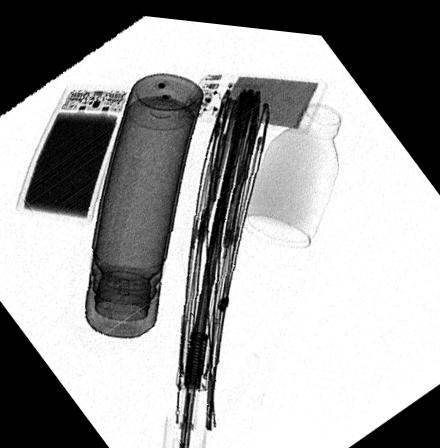Powerbank: (15, 83, 125, 220), (181, 63, 326, 126)
